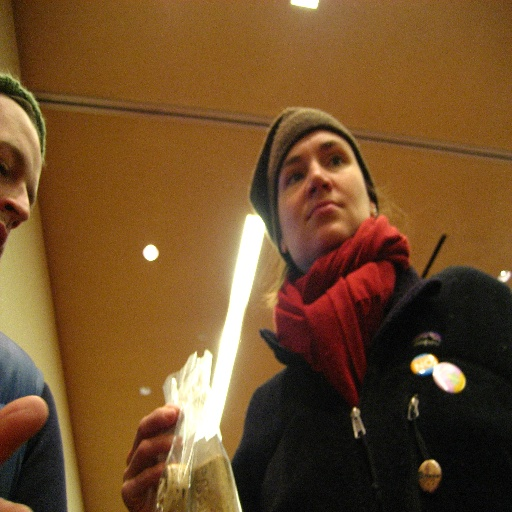hand: (115, 400, 179, 495), (0, 392, 50, 511)
